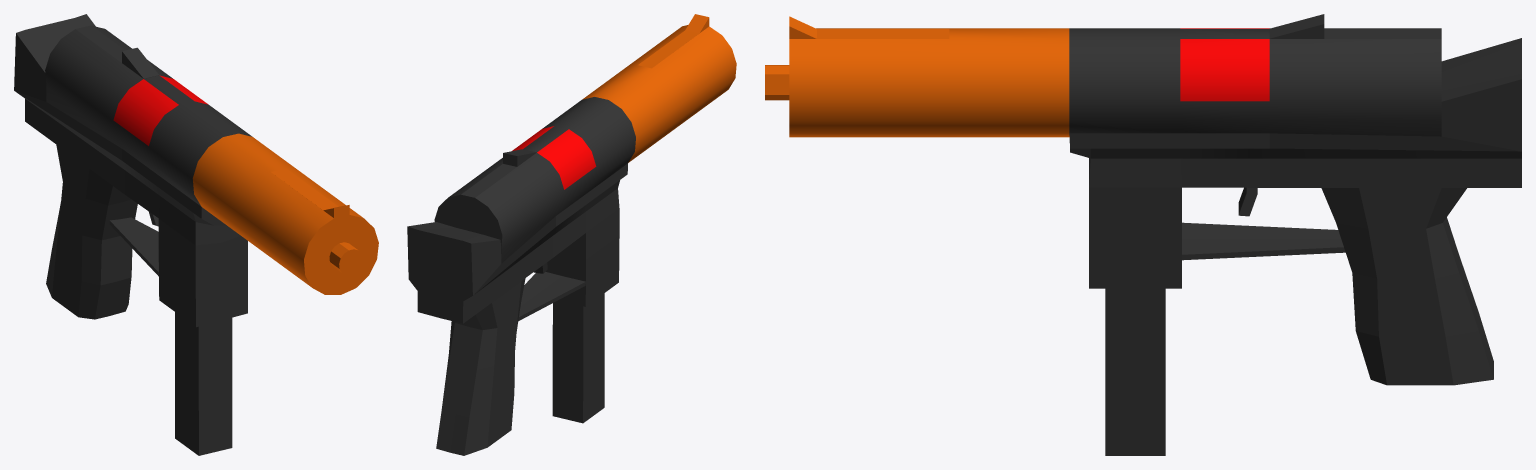
The model's file is cap gun.fbx.
3 views of the same model, side by side, from view 1: azimuth 30°, elevation 25°; view 2: azimuth 150°, elevation 25°; view 3: azimuth 270°, elevation 25° (orthographic). The views are drawn at different scales.
Visible parts, largest first — view 1: pCylinder1; view 2: pCylinder1; view 3: pCylinder1.
Part boxes in pixels (<box>): pCylinder1: <box>14,14,378,455</box>; pCylinder1: <box>407,14,736,455</box>; pCylinder1: <box>765,14,1521,455</box>.
Bounding box in the file's own units: 1.99 × 8.58 × 13.77.
2 materials, 1 textured.
